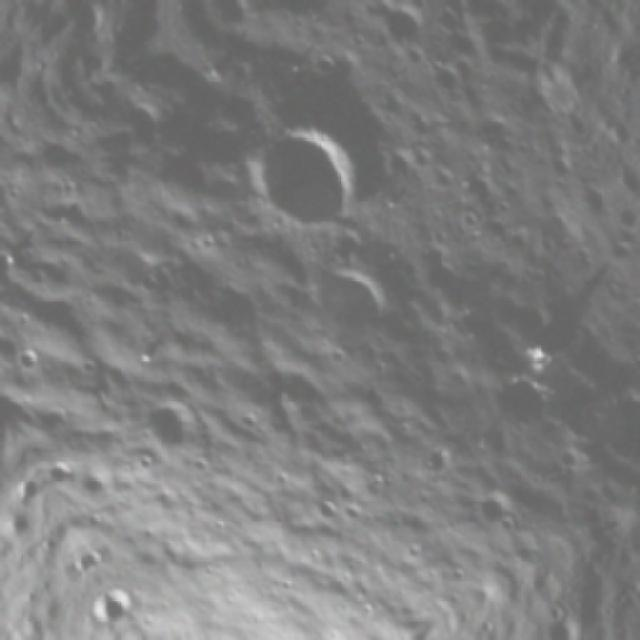crater: (229, 92, 394, 260), (294, 245, 421, 372), (466, 348, 568, 450), (123, 376, 223, 476), (567, 367, 640, 500), (365, 0, 450, 65), (250, 0, 347, 48), (468, 477, 534, 543), (416, 437, 464, 485)
